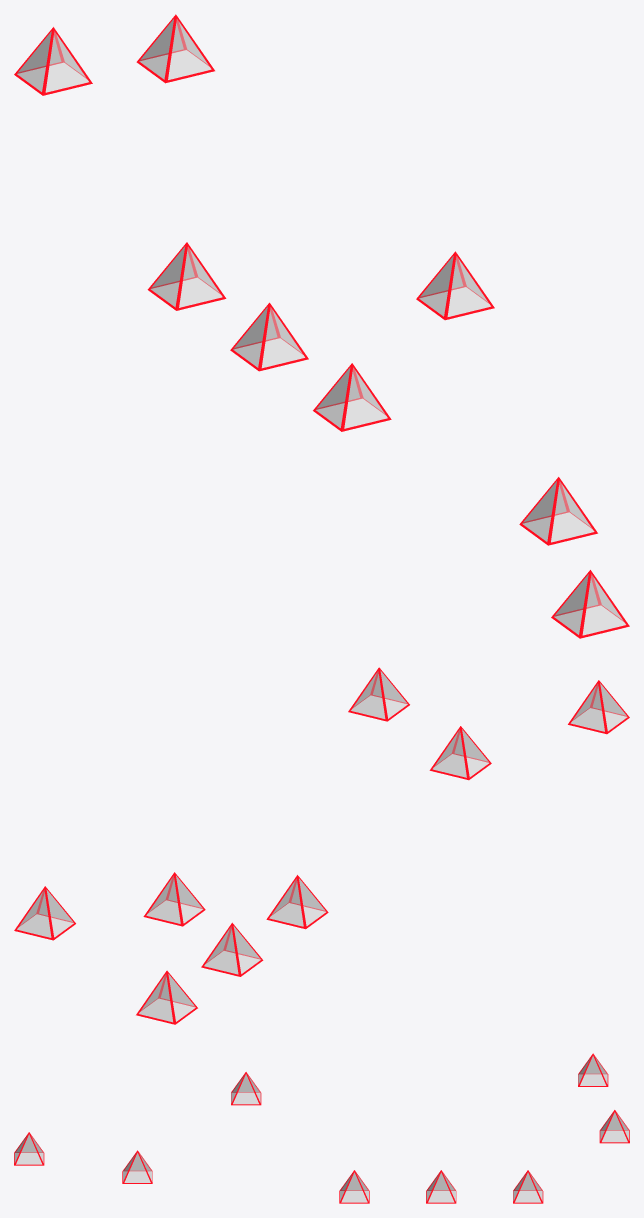
The model's file is (2)H Spike.fbx.
The picture shows the model from 3 angles, top to bottom: view 1: azimuth 30°, elevation 25°; view 2: azimuth 150°, elevation 25°; view 3: azimuth 270°, elevation 25°; orthographic projection. The views are drawn at different scales.
Visible parts, largest first — view 1: Spike..004, Spike..008, Spike..002, Spike..005, Spike..007, Spike..003, Spike..006, Spike..001; view 2: Spike..003, Spike..002, Spike..007, Spike..008, Spike..001, Spike..004, Spike..005, Spike..006; view 3: Spike..007, Spike..003, Spike..004, Spike..005, Spike..008, Spike..001, Spike..002, Spike..006.
Boxes of the visible parts, left/top/right/bottom form: Spike..004: left=230, top=302, right=308, bottom=371; Spike..008: left=147, top=242, right=226, bottom=310; Spike..002: left=519, top=477, right=597, bottom=545; Spike..005: left=313, top=363, right=391, bottom=431; Spike..007: left=136, top=14, right=214, bottom=83; Spike..003: left=416, top=251, right=494, bottom=320; Spike..006: left=14, top=27, right=92, bottom=95; Spike..001: left=551, top=570, right=629, bottom=638; Spike..003: left=348, top=667, right=409, bottom=721; Spike..002: left=429, top=726, right=491, bottom=780; Spike..007: left=14, top=886, right=75, bottom=940; Spike..008: left=136, top=970, right=197, bottom=1024; Spike..001: left=568, top=680, right=629, bottom=734; Spike..004: left=201, top=922, right=263, bottom=976; Spike..005: left=266, top=875, right=328, bottom=929; Spike..006: left=143, top=872, right=205, bottom=926; Spike..007: left=599, top=1110, right=629, bottom=1143; Spike..003: left=231, top=1072, right=261, bottom=1105; Spike..004: left=426, top=1170, right=456, bottom=1203; Spike..005: left=339, top=1170, right=369, bottom=1203; Spike..008: left=513, top=1170, right=543, bottom=1203; Spike..001: left=14, top=1132, right=44, bottom=1165; Spike..002: left=122, top=1150, right=152, bottom=1183; Spike..006: left=578, top=1053, right=608, bottom=1086.
Bounding box in the file's own units: 540 × 640 × 2840.
